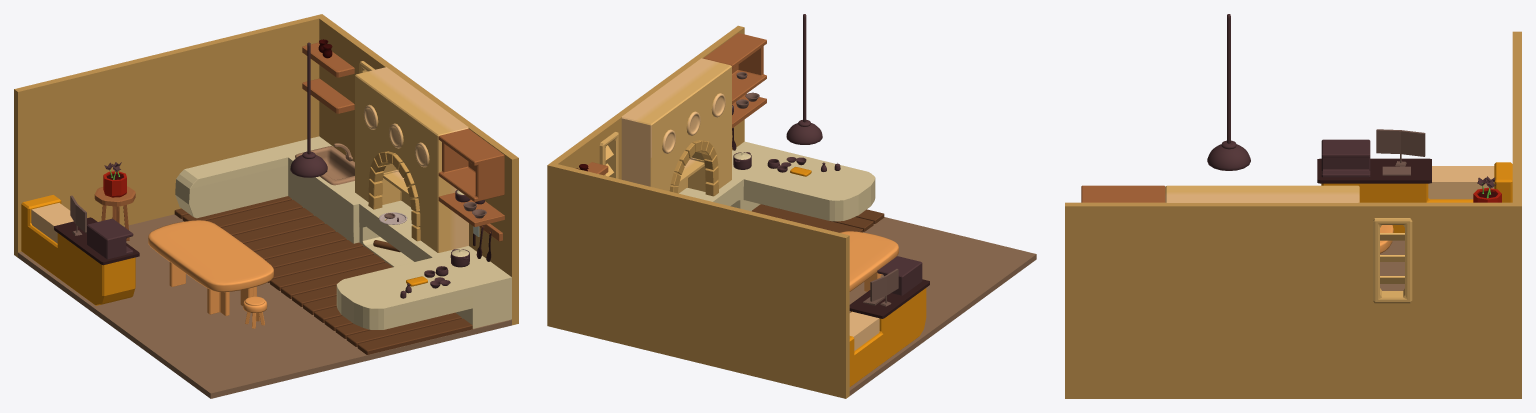
File: KitchenJenabKhan.fbx
3 renders of one model, left to right at view 1: azimuth 30°, elevation 25°; view 2: azimuth 150°, elevation 25°; view 3: azimuth 270°, elevation 25°, orthographic. The views are drawn at different scales.
Parts seen in each view (by area): view 1: Walls_Restaurant01, Cabinet01, Oven01, Parquet01, Desk03, DinningTable01, Machine05, Lamp01, VaseStand01, FlowerVase03, Chair04, Monitor01; view 2: Walls_Restaurant01, Oven01, Cabinet01, Desk03, DinningTable01, Parquet01, Lamp01, Machine05, Monitor01; view 3: Walls_Restaurant01, Desk03, Oven01, Machine05, Lamp01, Monitor01, FlowerVase03.
Boxes of the visible parts, x1,y1,x2,y2 form: Walls_Restaurant01: (14,14,518,398); Cabinet01: (175,136,511,329); Oven01: (355,67,468,252); Parquet01: (174,196,472,354); Desk03: (21,195,139,305); DinningTable01: (148,220,273,315); Machine05: (87,218,133,259); Lamp01: (290,42,327,177); VaseStand01: (94,186,135,240); FlowerVase03: (103,162,126,197); Chair04: (243,296,267,328); Monitor01: (70,195,86,235); Walls_Restaurant01: (547,25,1036,398); Oven01: (621,58,731,196); Cabinet01: (679,141,875,221); Desk03: (849,279,929,386); DinningTable01: (839,231,898,291); Parquet01: (752,204,884,232); Lamp01: (786,14,822,144); Machine05: (877,256,922,295); Monitor01: (870,269,898,306); Walls_Restaurant01: (1065,31,1521,398); Desk03: (1317,158,1512,232); Oven01: (1165,185,1359,202); Machine05: (1321,139,1370,177); Lamp01: (1207,14,1250,170); Monitor01: (1376,129,1425,166); FlowerVase03: (1473,176,1501,202).
Size of the model in its own units: 4.56 by 3.69 by 5.
